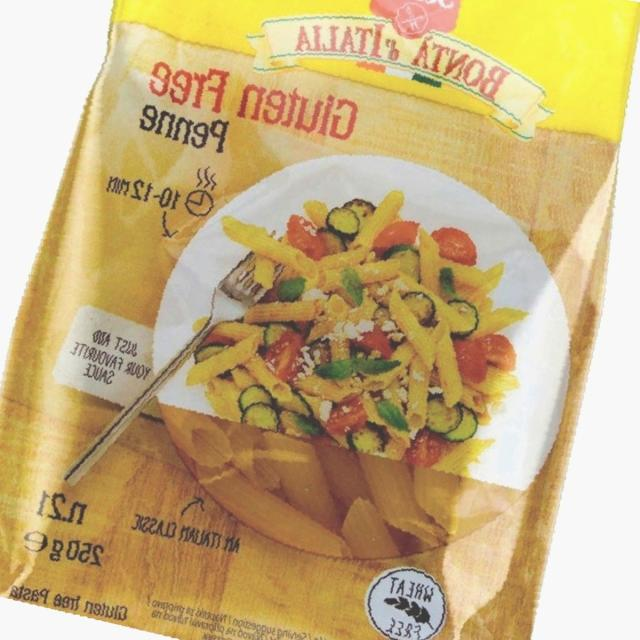pasta package: (0, 0, 638, 639)
